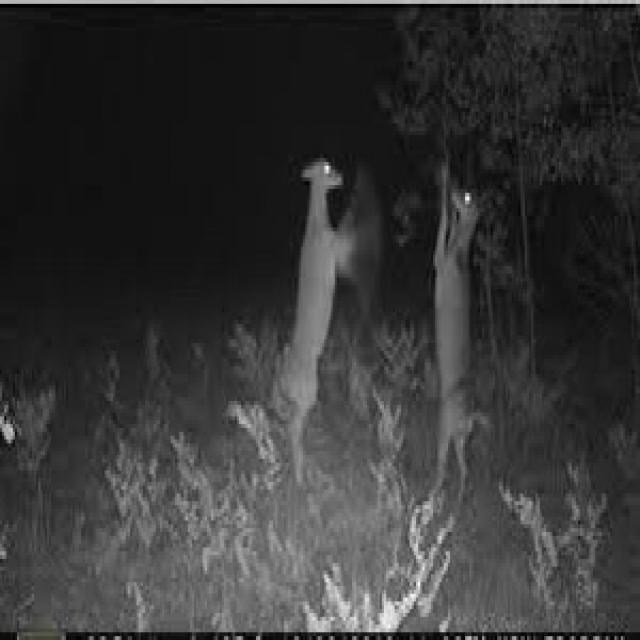elk: (246, 119, 398, 521), (410, 138, 516, 533)
